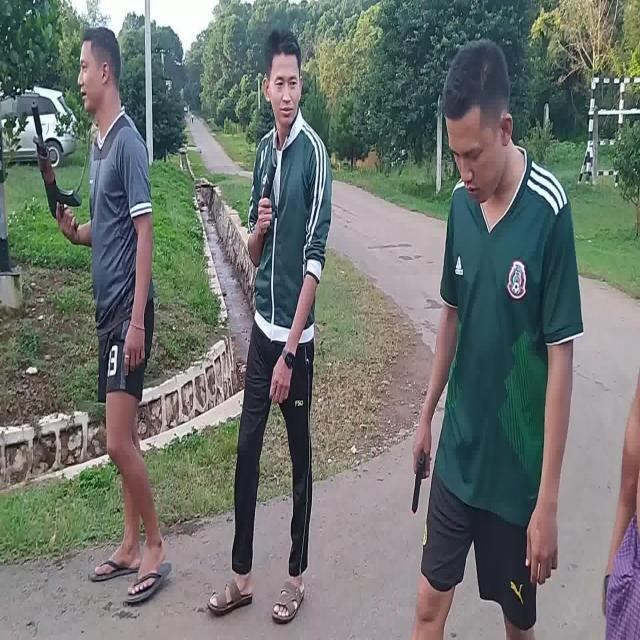gun: (30, 100, 81, 234), (411, 454, 425, 513)
